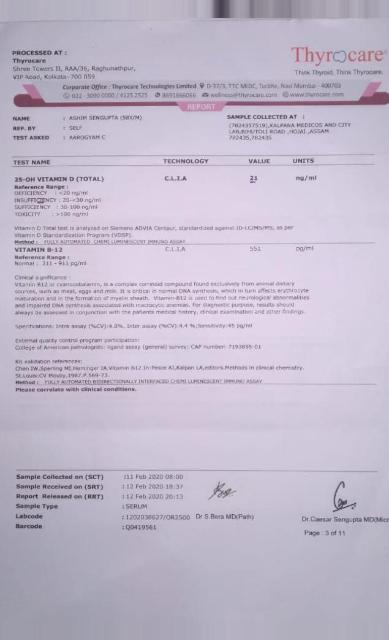Clinical_Conditions: (12, 272, 313, 316)
Name: (68, 113, 144, 123)
Ref_By: (67, 124, 86, 132)
Technology: (159, 171, 193, 185), (163, 244, 191, 254)
Test_Asked: (68, 134, 109, 142)
Test_Name: (14, 174, 113, 218), (13, 246, 90, 268)
Unit: (290, 172, 328, 185), (293, 245, 322, 255)
Value: (248, 243, 265, 255), (249, 173, 261, 186)
